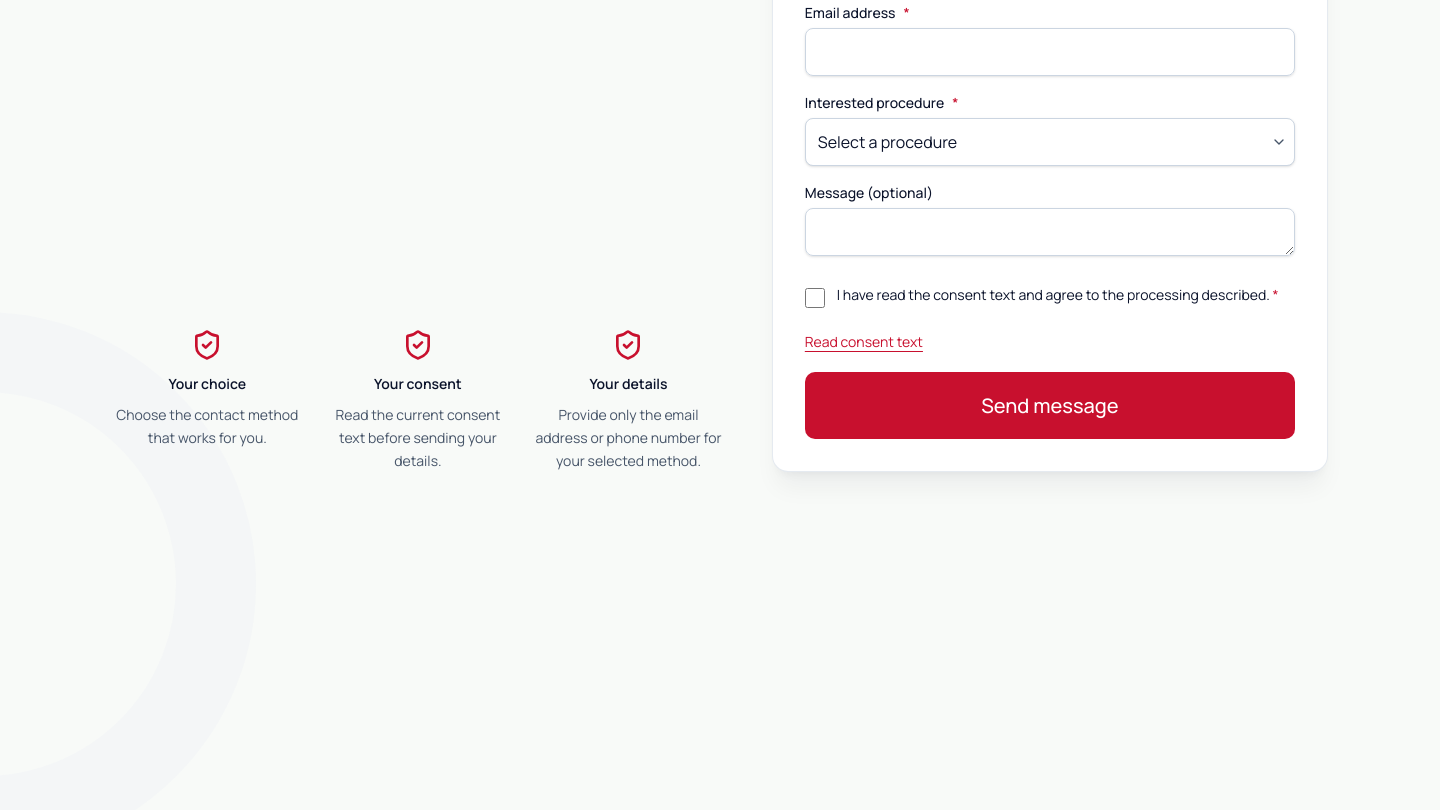
Test: ContactSection › shows validation errors beneath fields without a visible summary
(page scrolled)
Expected: the button "Read consent text" is shown, [805, 332, 923, 352]
Click the button "Send message" at (1050, 406), box [805, 372, 1295, 439]
(page scrolled)
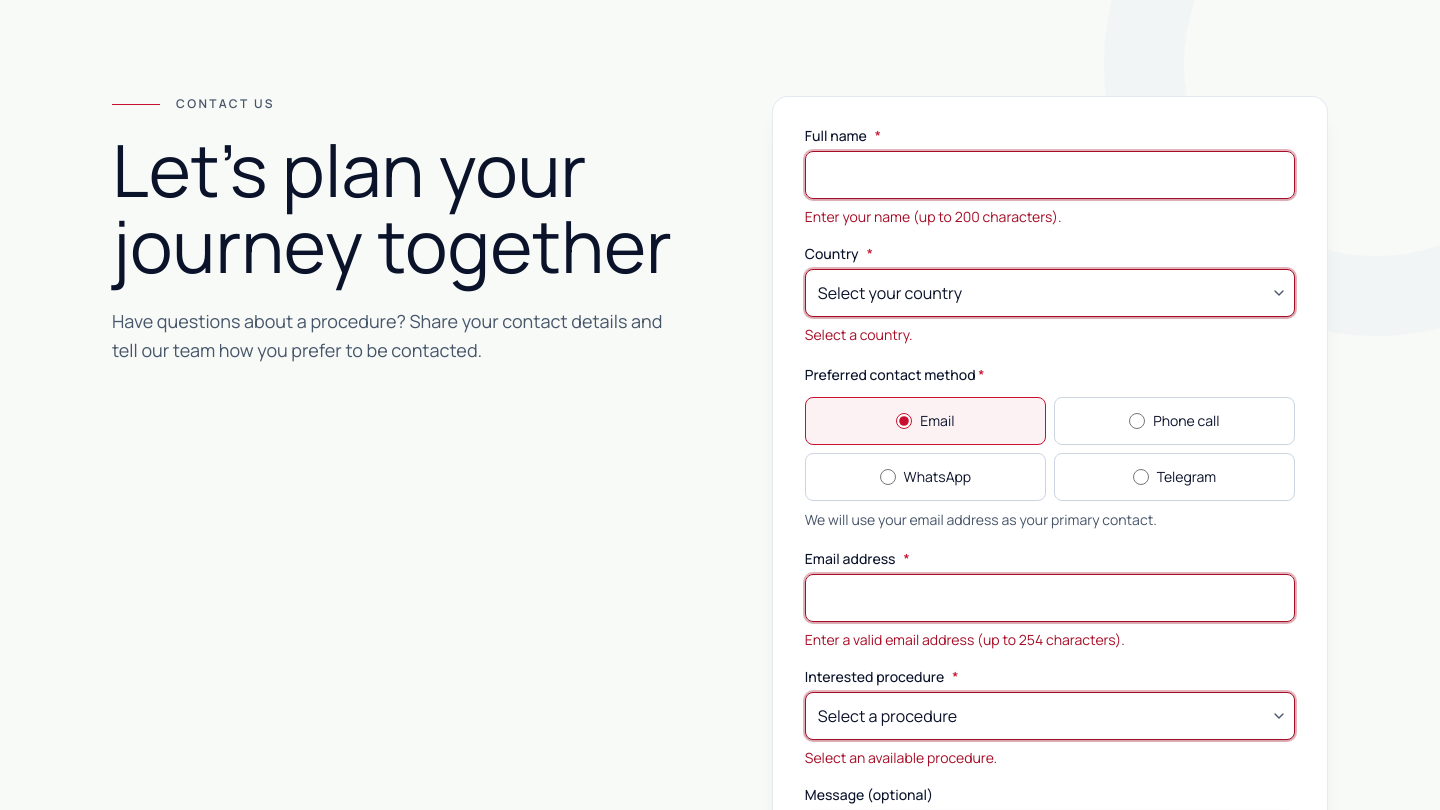
Expected: the text "Enter your name (up to 200 characters)." is shown, [805, 207, 1061, 226]
